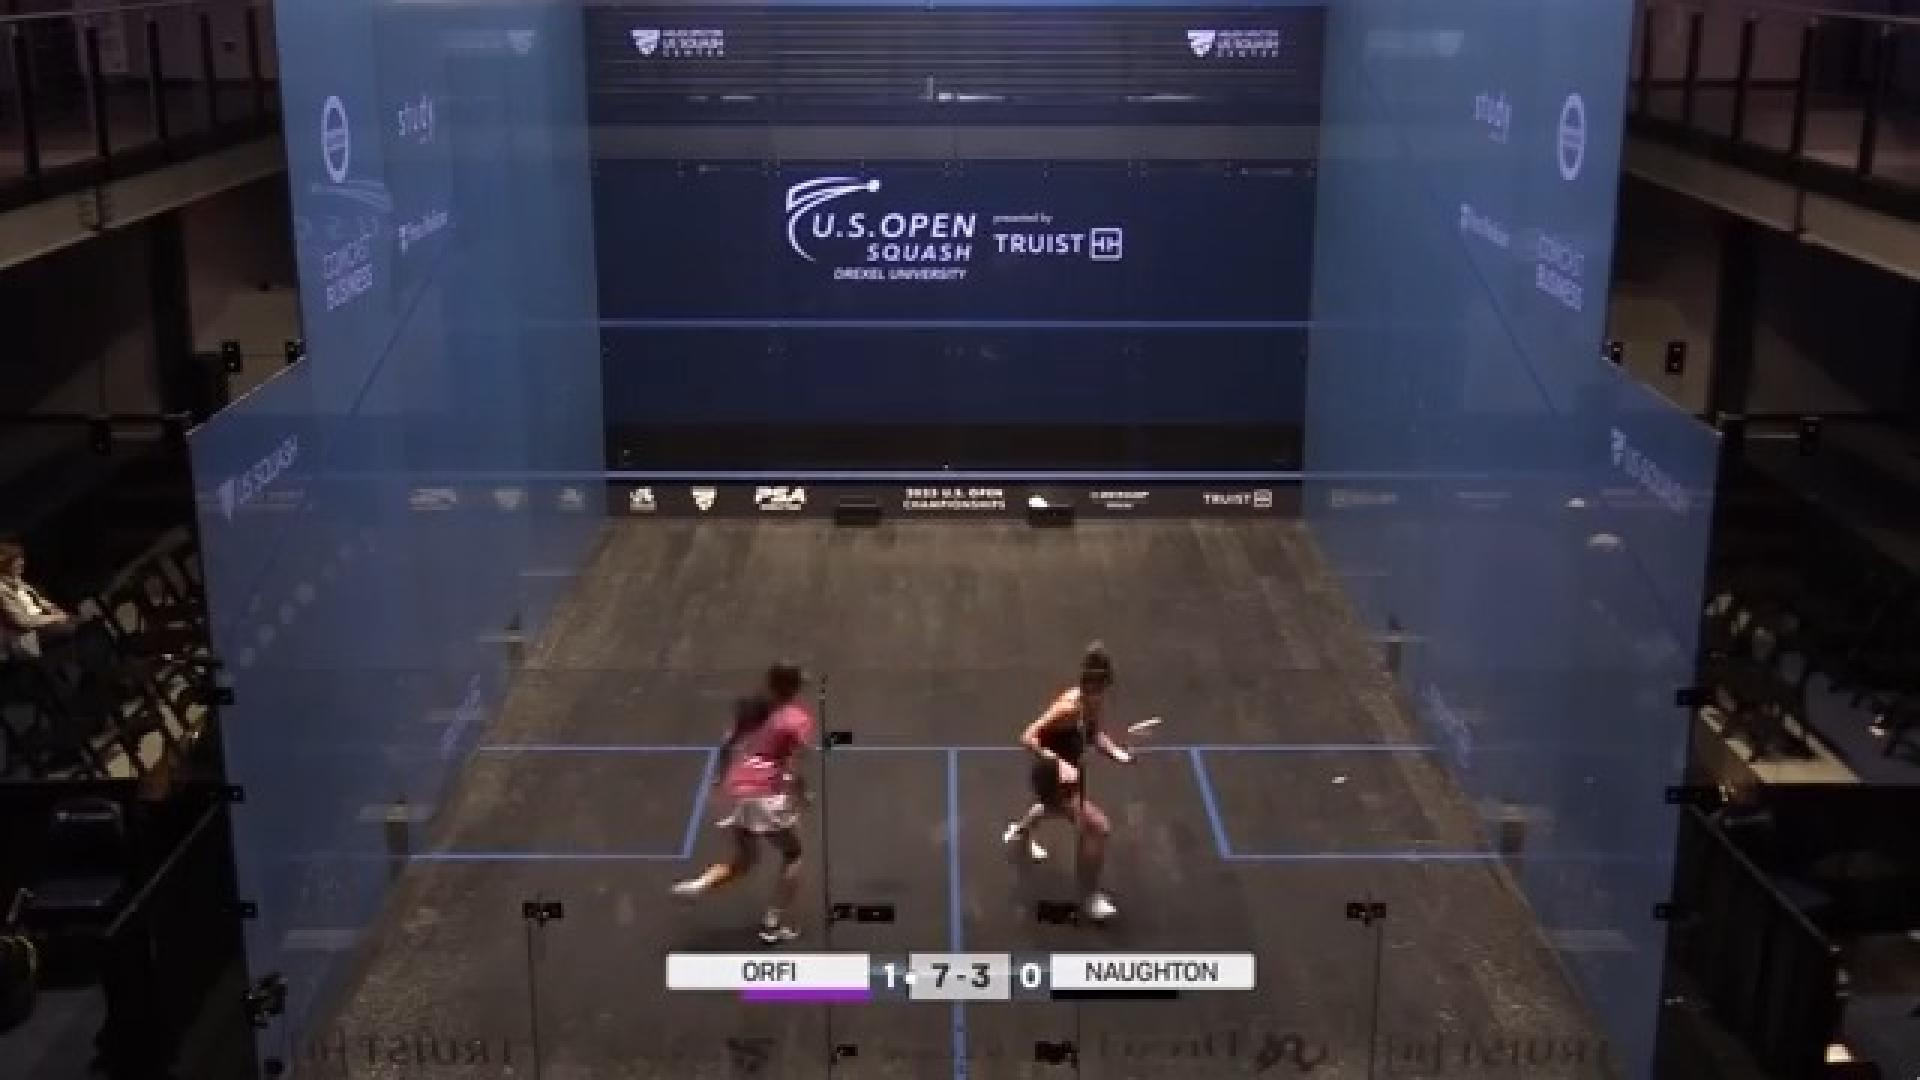Squash-Ball: (1323, 758, 1354, 804)
